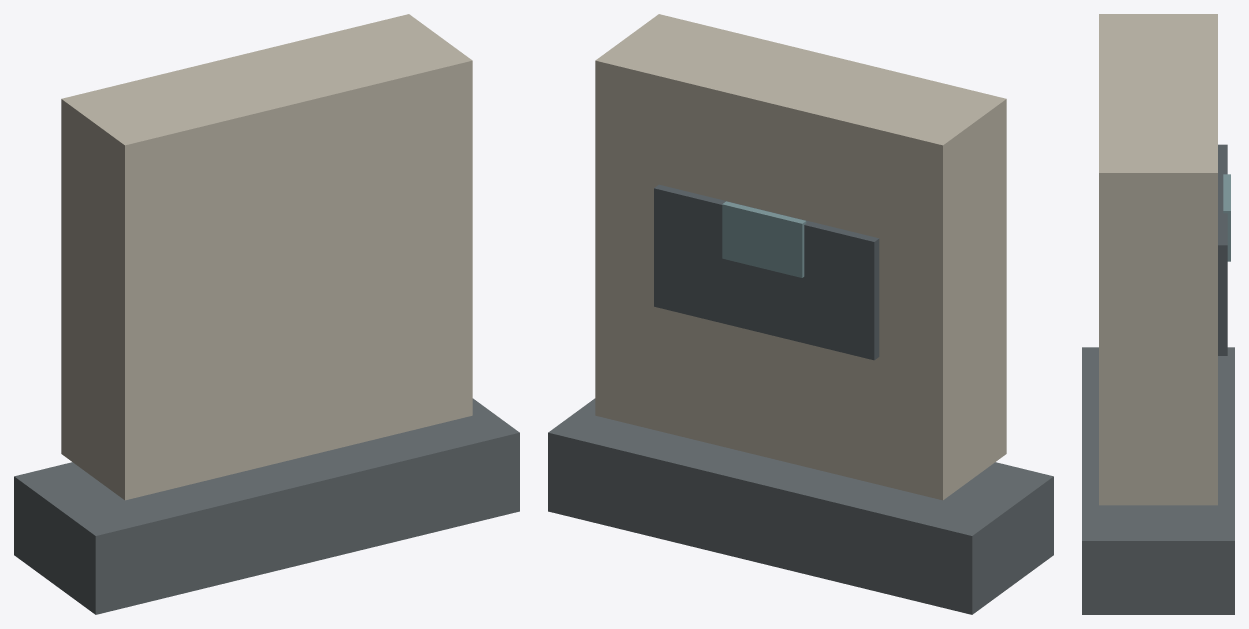
File: iz3_production_storage_01.glb
The picture shows the model from 3 angles, left to right: view 1: azimuth 30°, elevation 25°; view 2: azimuth 150°, elevation 25°; view 3: azimuth 270°, elevation 25°; orthographic projection. The views are drawn at different scales.
Visible parts, largest first — view 1: cabinet, base; view 2: cabinet, base, panel, display; view 3: cabinet, base, panel, display.
Boxes of the visible parts, left/top/right/bottom form: cabinet: left=61, top=14, right=472, bottom=500; base: left=14, top=398, right=519, bottom=614; cabinet: left=595, top=14, right=1006, bottom=500; base: left=548, top=398, right=1053, bottom=614; panel: left=654, top=184, right=879, bottom=360; display: left=722, top=201, right=806, bottom=277; cabinet: left=1099, top=14, right=1217, bottom=505; base: left=1082, top=347, right=1234, bottom=614; panel: left=1218, top=144, right=1227, bottom=355; display: left=1223, top=174, right=1230, bottom=261.
Size of the model in its own units: 1.8 by 1.84 by 0.6.
